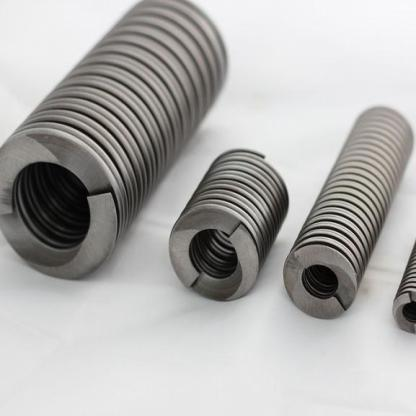FOD: (0, 0, 228, 280), (280, 104, 416, 322), (165, 146, 291, 301)
